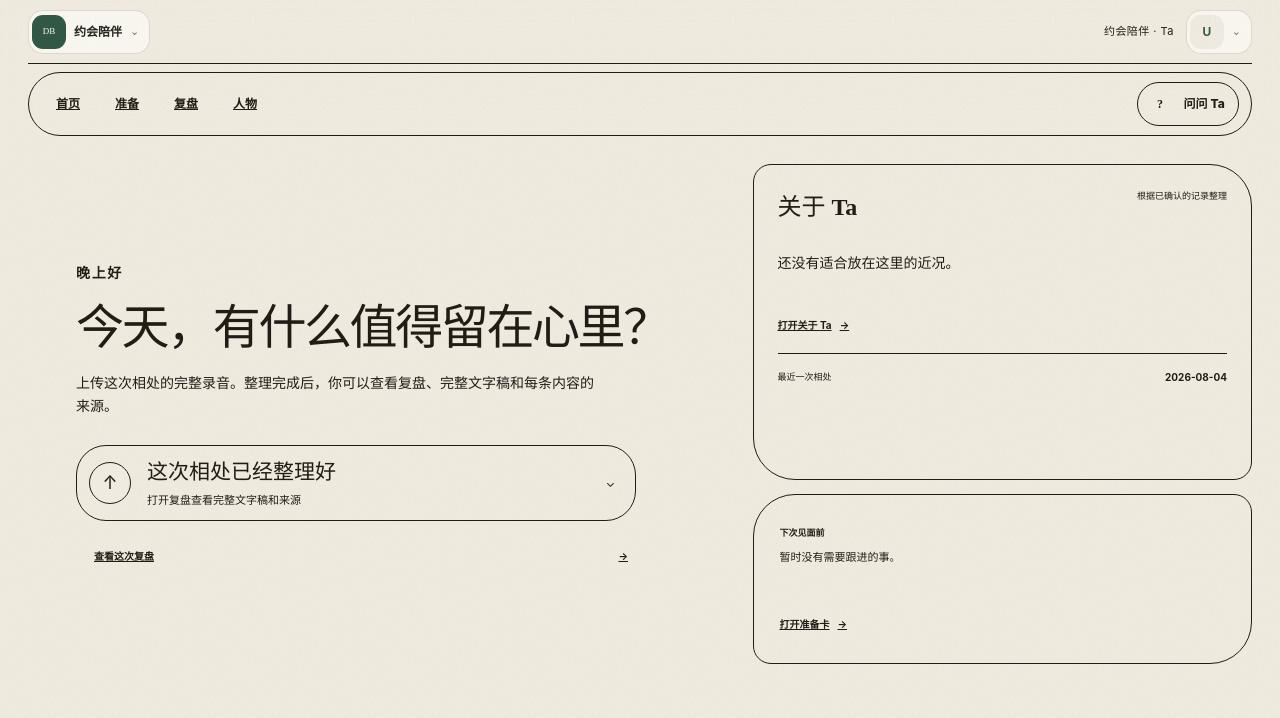
Test: DateCompanionShell › keeps a failed QA question retryable without exposing an internal stream code
Step 1. Click the button "? 问问 Ta" → (1188, 104), box top-left (1138, 82), bottom-right (1239, 126)
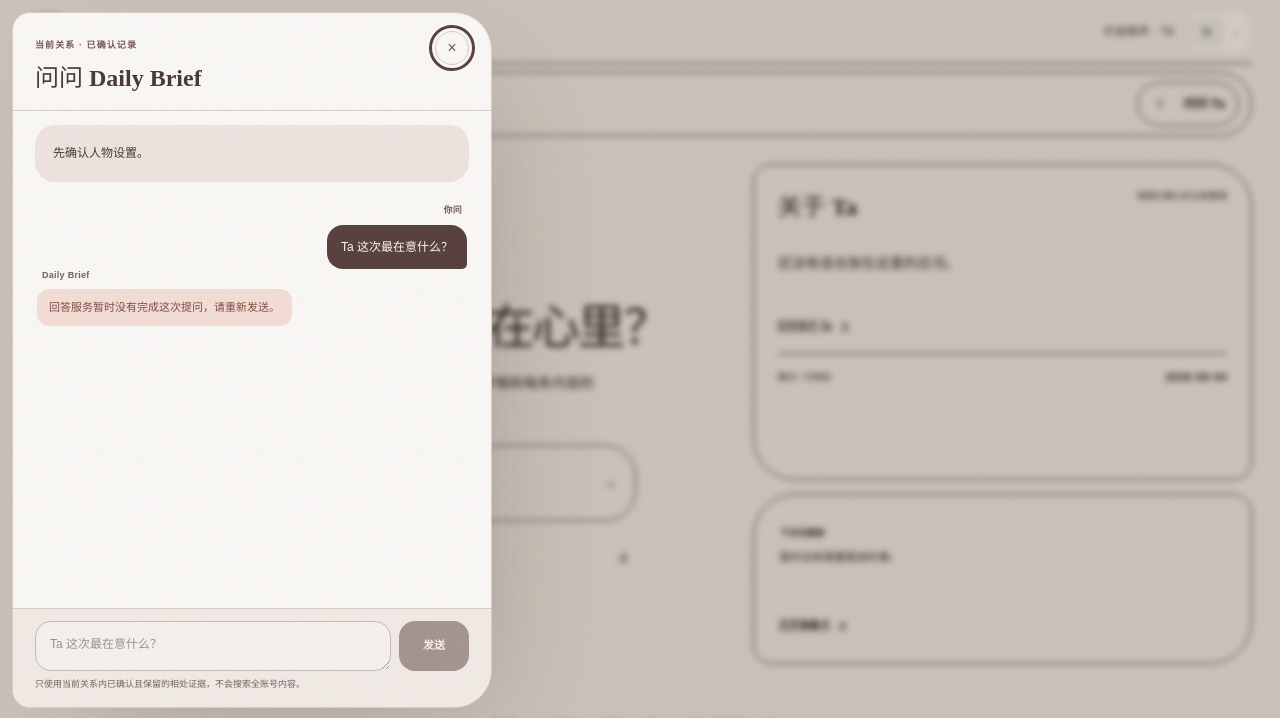
expect the message reads "回答服务暂时没有完成这次提问，请重新发送。": met, box top-left (49, 301), bottom-right (280, 313)
expect the text box named "向 Ta 的相处记录提问" holds "Ta 这次最在意什么？": met, box top-left (35, 620), bottom-right (391, 670)
